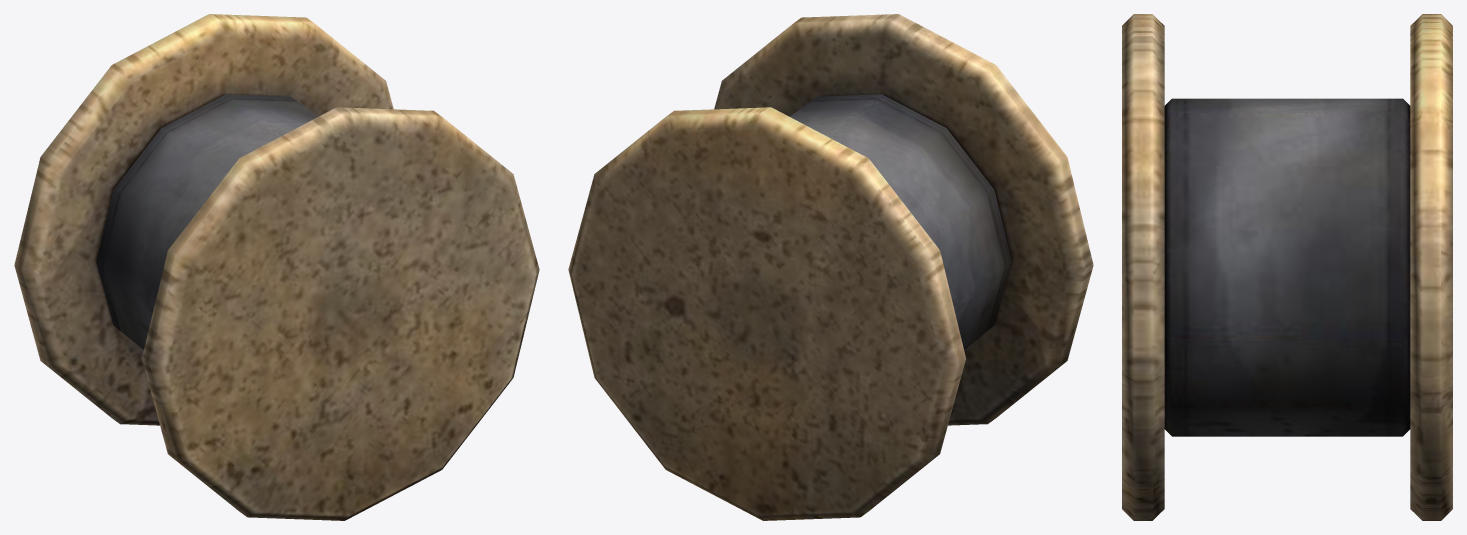
The model's file is cabo_bobina.glb.
3 views of the same model, side by side, from view 1: azimuth 30°, elevation 25°; view 2: azimuth 150°, elevation 25°; view 3: azimuth 270°, elevation 25° (orthographic). The views are drawn at different scales.
Visible parts, largest first — view 1: cabo_bobina; view 2: cabo_bobina; view 3: cabo_bobina.
Boxes of the visible parts, left/top/right/bottom form: cabo_bobina: left=14, top=14, right=539, bottom=520; cabo_bobina: left=568, top=14, right=1093, bottom=520; cabo_bobina: left=1122, top=14, right=1452, bottom=520.
Bounding box in the file's own units: 0.6 × 0.6 × 0.39.
1 material, 1 textured.
